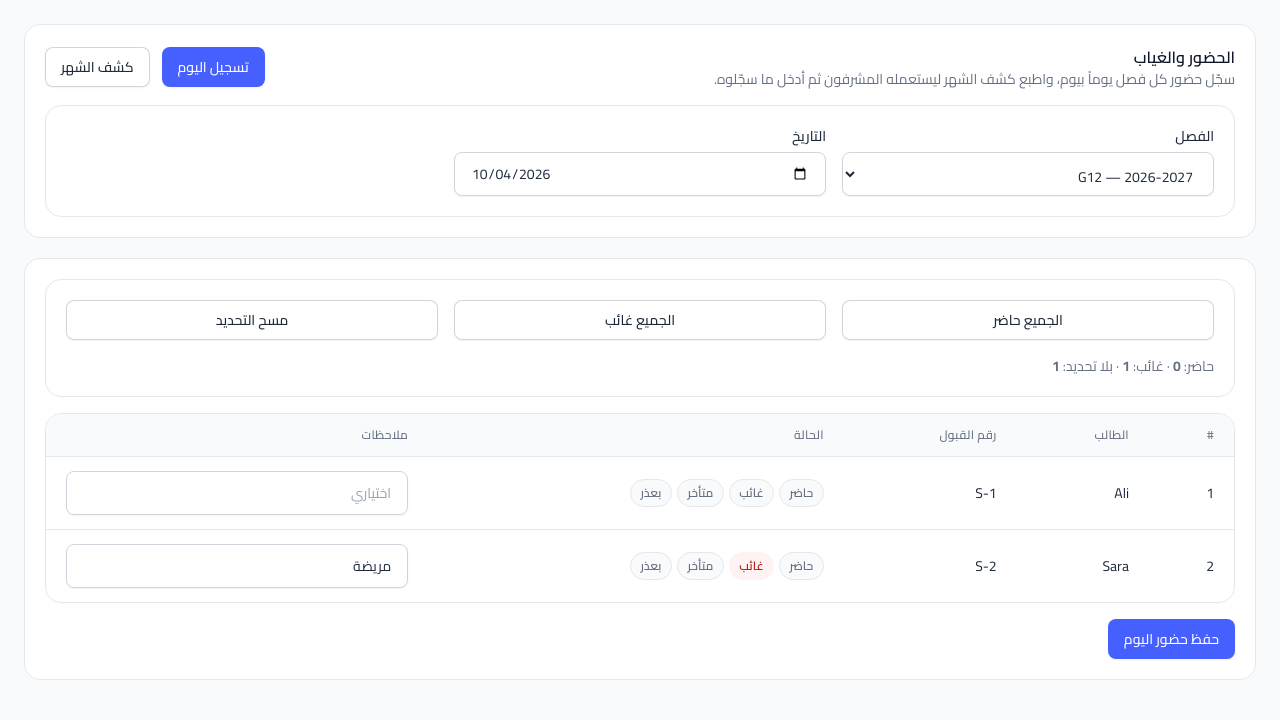
Test: AttendanceRegister › shows the month grid with the marks in place
Click the button "كشف الشهر" at x=97, y=67, box 45,47 -> 150,87
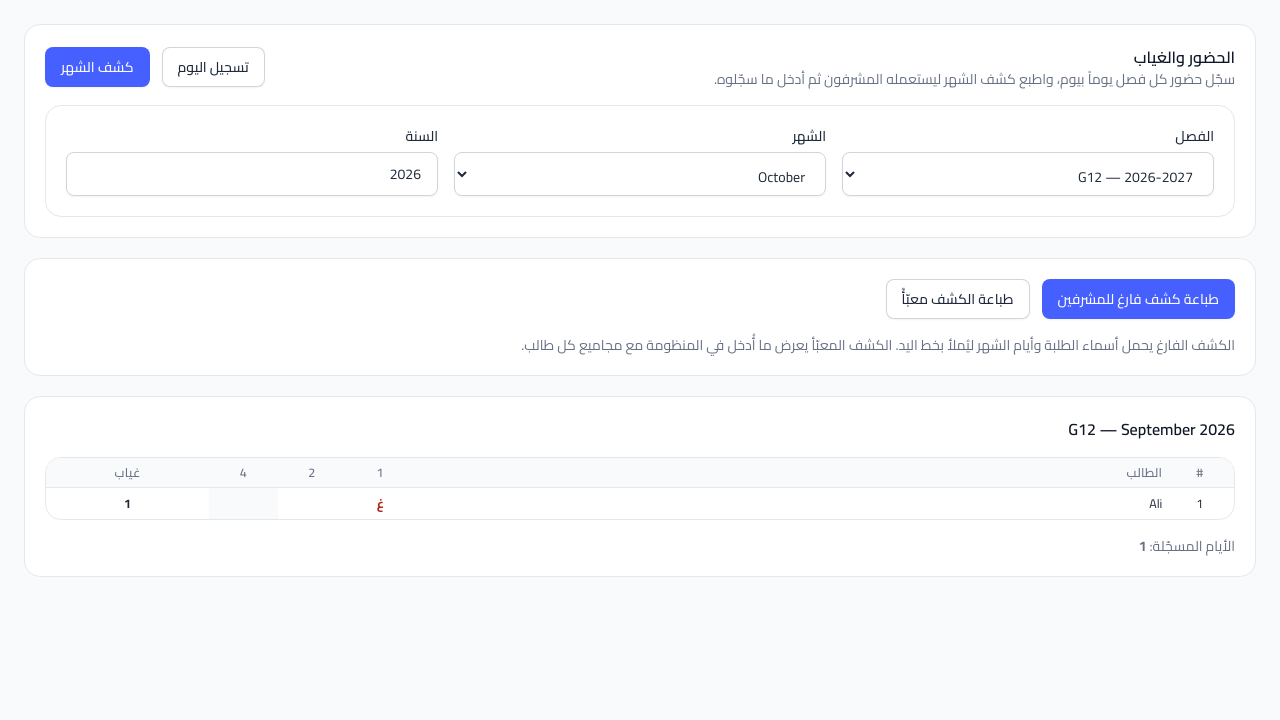
Expected: the cell with class "absent" reads "غ", 377,492 -> 384,515
Expected: the text "September 2026" is shown, 1068,414 -> 1235,444
Expected: the column heading with class "weekend" showing "4" is shown, 209,458 -> 278,488
